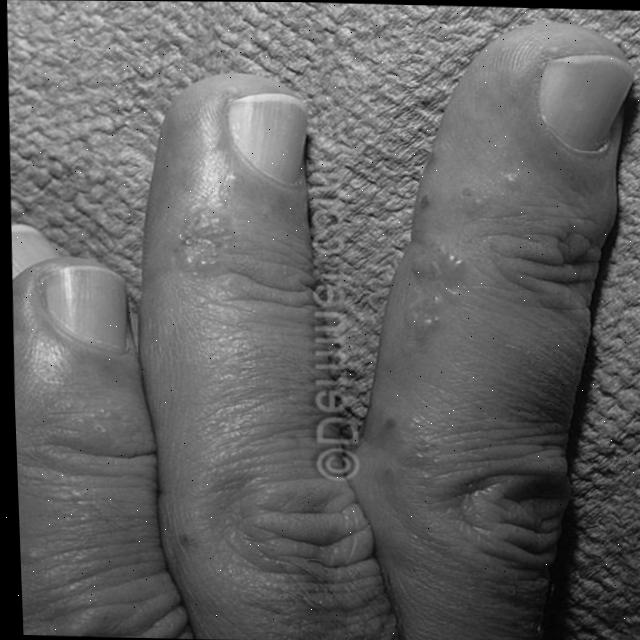Eczema: (364, 164, 491, 475), (167, 182, 238, 278)
